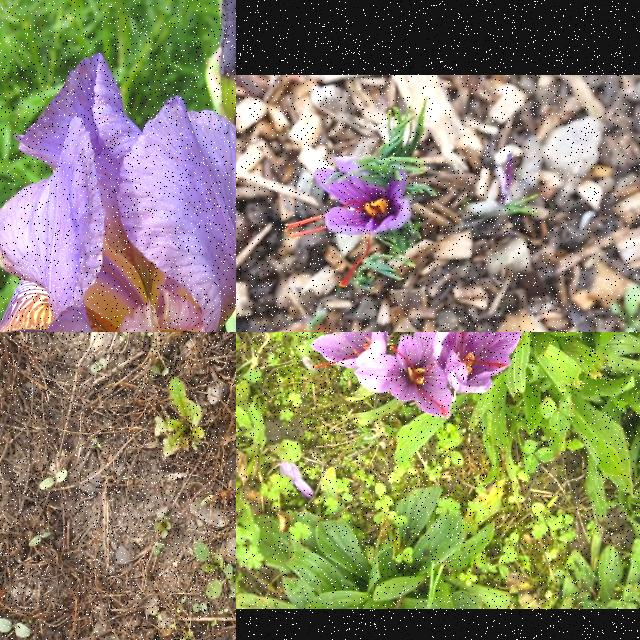flower: (284, 156, 410, 288), (354, 332, 454, 418), (435, 332, 524, 393), (310, 332, 388, 371)
